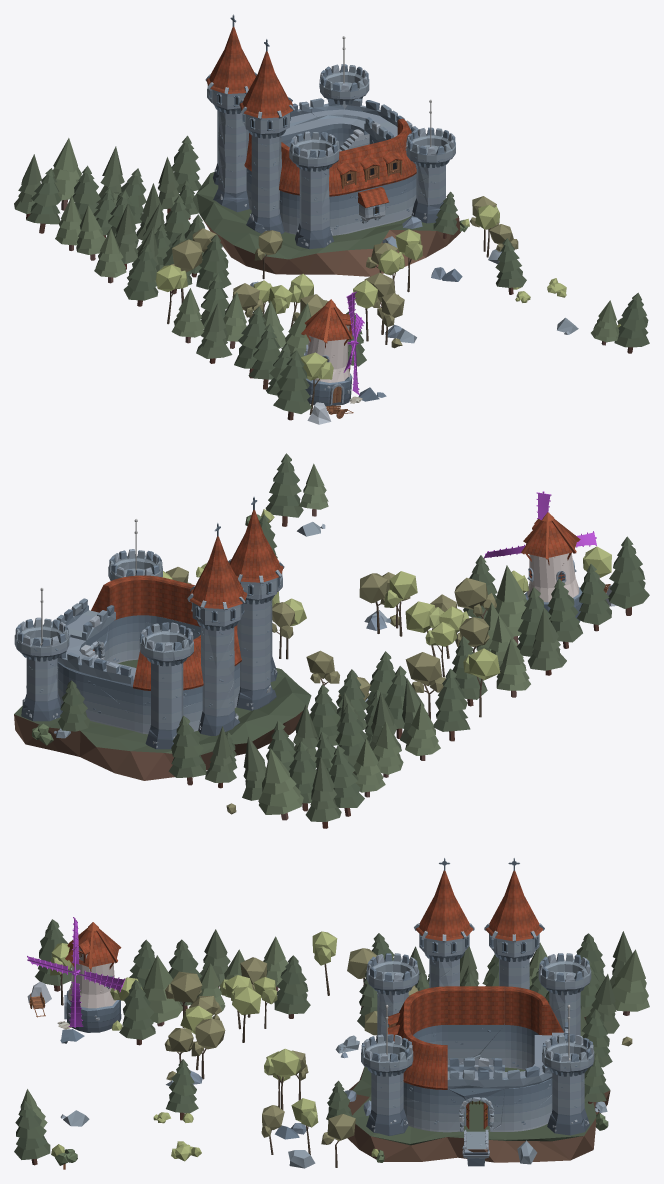
Rendered from elementosTerreno2.obj.
3 views of the same model, one above another, from view 1: azimuth 30°, elevation 25°; view 2: azimuth 150°, elevation 25°; view 3: azimuth 270°, elevation 25° (orthographic). The views are drawn at different scales.
Visible parts, largest first — view 1: Object005, Mill_wind_wheel; view 2: Object005, Mill_wind_wheel; view 3: Object005, Mill_wind_wheel.
Part boxes in pixels (<box>): Object005: <box>14,14,649,424</box>; Mill_wind_wheel: <box>343,292,364,395</box>; Object005: <box>14,453,649,828</box>; Mill_wind_wheel: <box>484,491,596,558</box>; Object005: <box>14,858,649,1169</box>; Mill_wind_wheel: <box>27,917,125,1027</box>.
Size of the model in its own units: 1854 by 1069 by 2677.
